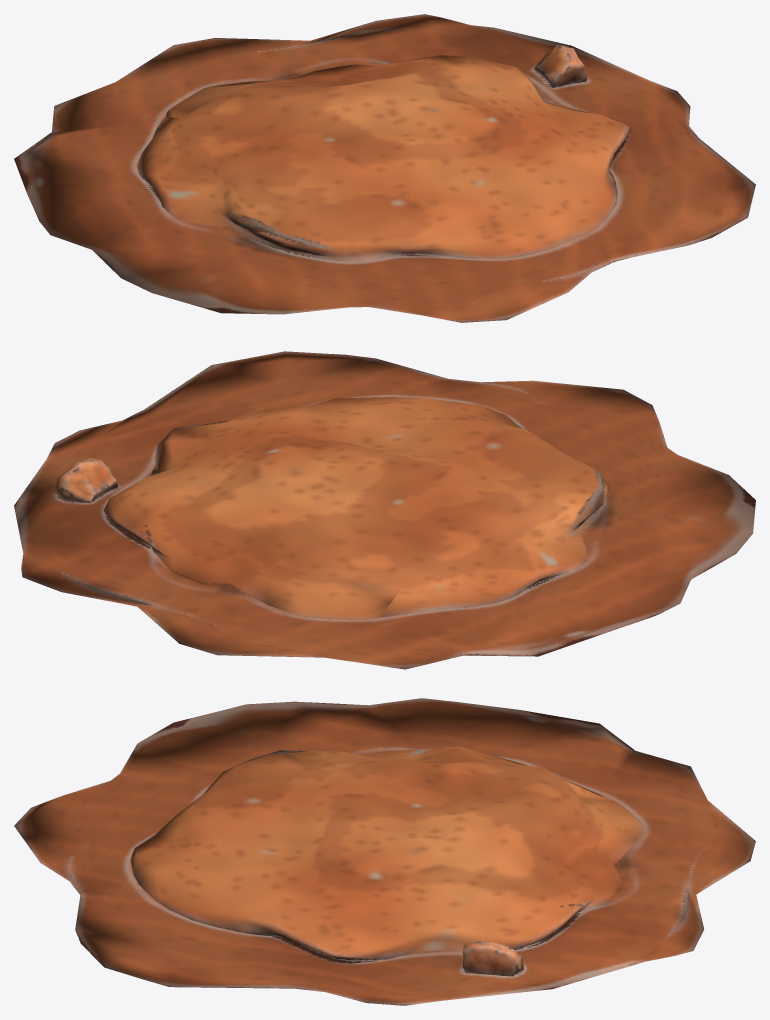
Rendered from clay_pit_dug.glb.
The picture shows the model from 3 angles, top to bottom: view 1: azimuth 30°, elevation 25°; view 2: azimuth 150°, elevation 25°; view 3: azimuth 270°, elevation 25°; orthographic projection. The views are drawn at different scales.
Parts seen in each view (by area): view 1: clay_pit_dug; view 2: clay_pit_dug; view 3: clay_pit_dug.
Part boxes in pixels (left/top/right/bottom): clay_pit_dug: left=14, top=14, right=755, bottom=322; clay_pit_dug: left=14, top=351, right=755, bottom=669; clay_pit_dug: left=14, top=698, right=755, bottom=1005.
Bounding box in the file's own units: 1.51 × 0.0887 × 1.54.
1 material, 1 textured.
